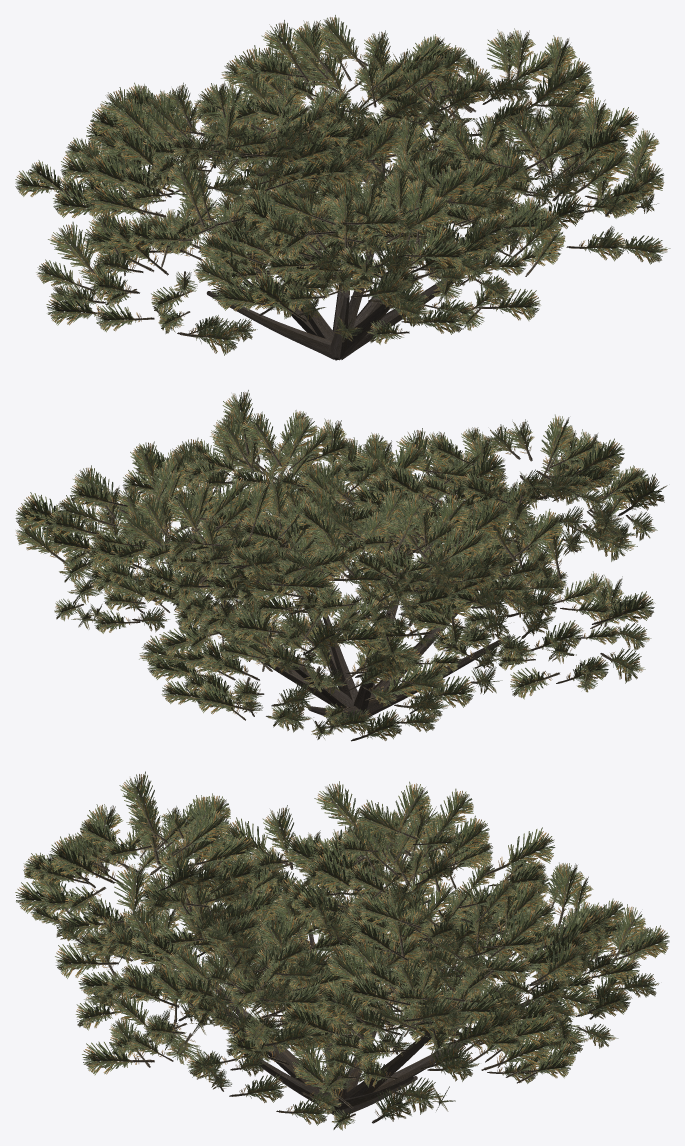
The model's file is shrub.glb.
3 views of the same model, one above another, from view 1: azimuth 30°, elevation 25°; view 2: azimuth 150°, elevation 25°; view 3: azimuth 270°, elevation 25° (orthographic). The views are drawn at different scales.
Parts seen in each view (by area): view 1: shrub_Needles, shrub_Twigs; view 2: shrub_Needles, shrub_Twigs; view 3: shrub_Needles, shrub_Twigs.
Boxes of the visible parts, box(x1,y1,x2,y2) form: shrub_Needles: box(15, 15, 670, 355); shrub_Twigs: box(198, 197, 518, 360); shrub_Needles: box(15, 390, 667, 741); shrub_Twigs: box(167, 529, 519, 720); shrub_Needles: box(15, 771, 669, 1130); shrub_Twigs: box(192, 933, 530, 1117).
Size of the model in its own units: 1.91 by 0.8 by 1.79.
Materials: 2 (2 with a texture image).
